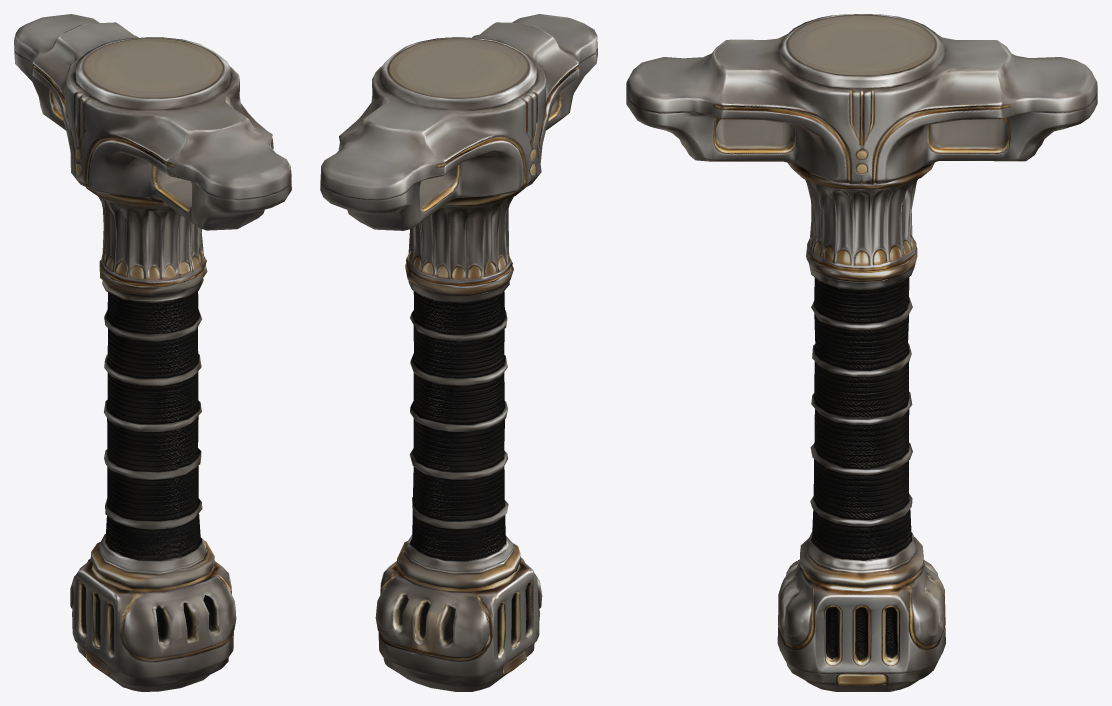
File: hilt_ashbrand.glb
3 renders of one model, left to right at view 1: azimuth 30°, elevation 25°; view 2: azimuth 150°, elevation 25°; view 3: azimuth 270°, elevation 25°, orthographic. The views are drawn at different scales.
Parts seen in each view (by area): view 1: tripo_node_95823429-b8ab-44cd-b97b-5ceb0fd3d87c; view 2: tripo_node_95823429-b8ab-44cd-b97b-5ceb0fd3d87c; view 3: tripo_node_95823429-b8ab-44cd-b97b-5ceb0fd3d87c.
Boxes of the visible parts, x1,y1,x2,y2 form: tripo_node_95823429-b8ab-44cd-b97b-5ceb0fd3d87c: [14, 14, 291, 691]; tripo_node_95823429-b8ab-44cd-b97b-5ceb0fd3d87c: [320, 14, 597, 691]; tripo_node_95823429-b8ab-44cd-b97b-5ceb0fd3d87c: [626, 14, 1097, 691].
Bounding box in the file's own units: 0.2612 × 1 × 0.6796.
Materials: 1 (1 with a texture image).
